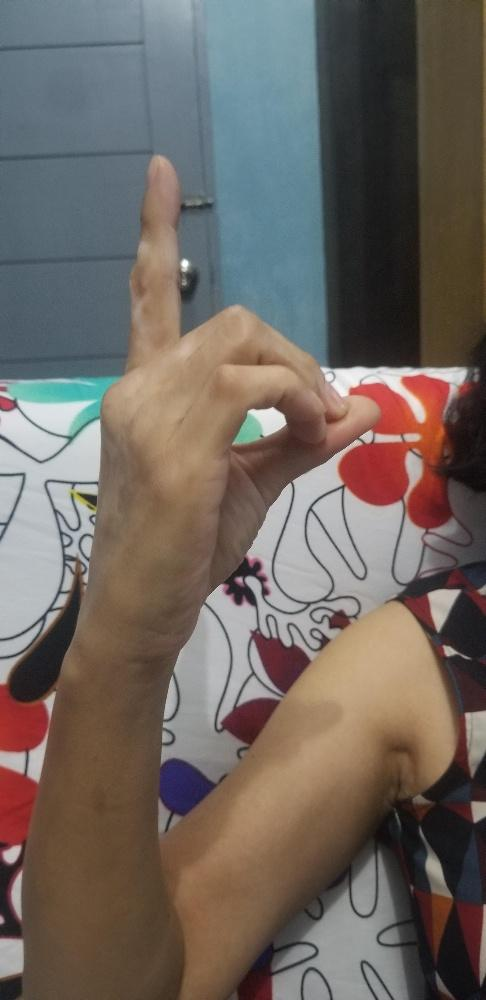d: (92, 150, 381, 653)
